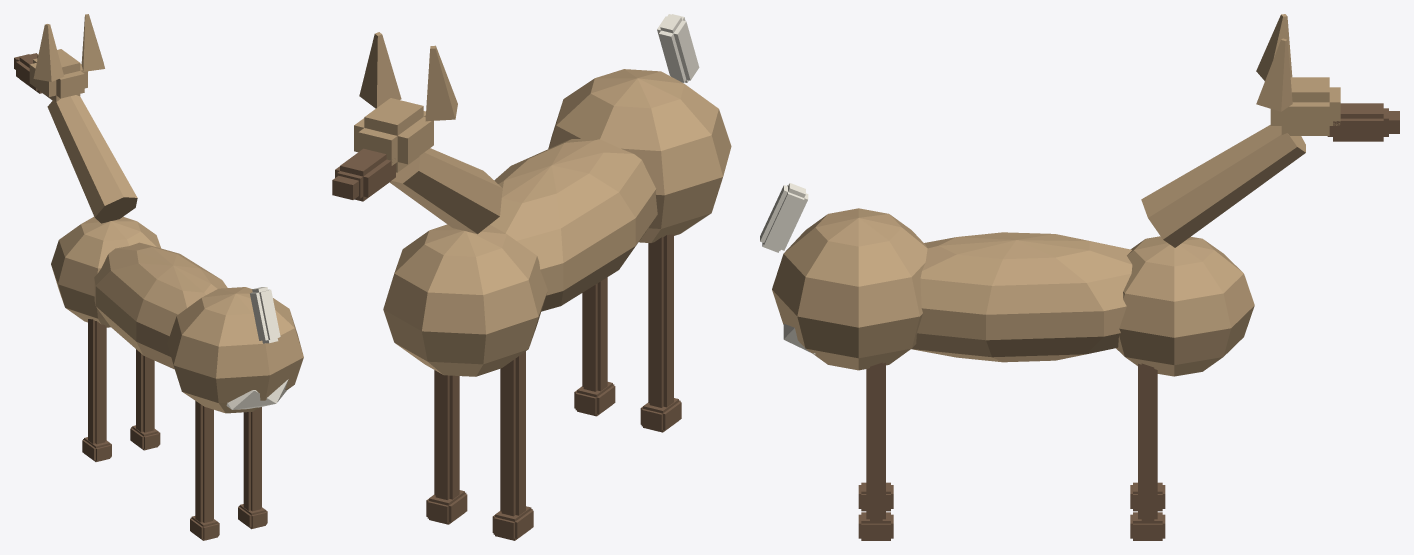
The model's file is deer.glb.
3 views of the same model, side by side, from view 1: azimuth 30°, elevation 25°; view 2: azimuth 150°, elevation 25°; view 3: azimuth 270°, elevation 25° (orthographic). The views are drawn at different scales.
Visible parts, largest first — view 1: Rump, Body, Neck, Chest, Leg_1, Leg_3, Leg_2, Skull, Leg_0, Tail, Ear_R, Ear_L (+6 smaller); view 2: Chest, Body, Rump, Neck, Leg_3, Leg_1, Skull, Leg_0, Leg_2, Tail, Snout, Ear_L (+6 smaller); view 3: Body, Rump, Chest, Neck, Skull, Leg_2, Leg_0, Snout, Tail, Ear_L, Ear_R, Hoof_0 (+1 smaller).
Part boxes in pixels (bbox=[...]): Rump: bbox=[167, 287, 303, 413]; Body: bbox=[94, 242, 227, 369]; Neck: bbox=[47, 95, 137, 223]; Chest: bbox=[51, 216, 160, 327]; Leg_1: bbox=[88, 319, 106, 444]; Leg_3: bbox=[195, 401, 213, 522]; Leg_2: bbox=[243, 407, 261, 511]; Skull: bbox=[29, 49, 87, 102]; Leg_0: bbox=[136, 349, 154, 432]; Tail: bbox=[250, 287, 280, 343]; Ear_R: bbox=[33, 24, 64, 81]; Ear_L: bbox=[81, 14, 104, 71]; Chest: bbox=[383, 224, 547, 376]; Body: bbox=[490, 139, 657, 311]; Rump: bbox=[548, 69, 731, 242]; Neck: bbox=[390, 148, 502, 234]; Leg_3: bbox=[648, 234, 673, 407]; Leg_1: bbox=[500, 351, 525, 516]; Skull: bbox=[354, 98, 433, 172]; Leg_0: bbox=[434, 370, 459, 499]; Leg_2: bbox=[582, 277, 607, 391]; Tail: bbox=[657, 14, 699, 82]; Snout: bbox=[335, 148, 395, 201]; Ear_L: bbox=[359, 32, 401, 108]; Body: bbox=[911, 232, 1132, 362]; Rump: bbox=[772, 208, 927, 370]; Chest: bbox=[1116, 236, 1254, 376]; Neck: bbox=[1141, 125, 1305, 247]; Skull: bbox=[1270, 77, 1340, 135]; Leg_2: bbox=[866, 362, 885, 520]; Leg_0: bbox=[1138, 363, 1157, 520]; Snout: bbox=[1327, 103, 1388, 141]; Tail: bbox=[760, 183, 808, 252]; Ear_L: bbox=[1256, 38, 1292, 111]; Ear_R: bbox=[1256, 14, 1292, 80]; Hoof_0: bbox=[1130, 512, 1165, 540].
Size of the model in its own units: 0.414 by 1.25 by 1.46.
